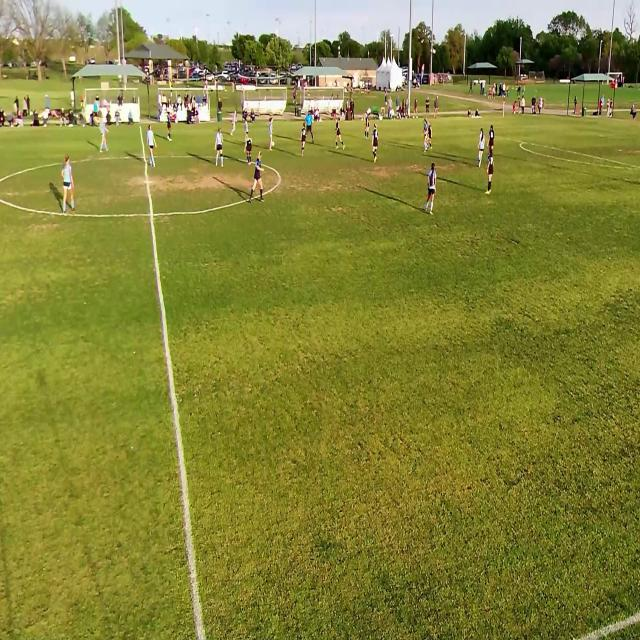ball: (272, 141, 275, 147)
team1: (254, 151, 265, 200), (486, 145, 496, 197), (487, 121, 495, 165), (336, 115, 344, 153), (300, 121, 308, 155), (373, 124, 380, 161), (428, 118, 434, 156), (365, 111, 372, 143), (245, 133, 252, 164), (166, 113, 173, 143)
team2: (61, 155, 76, 213), (424, 163, 436, 214), (147, 126, 158, 170), (217, 126, 226, 166), (478, 126, 486, 168), (100, 114, 108, 155), (268, 117, 274, 150), (243, 117, 249, 145), (231, 110, 237, 136), (424, 118, 428, 153)
